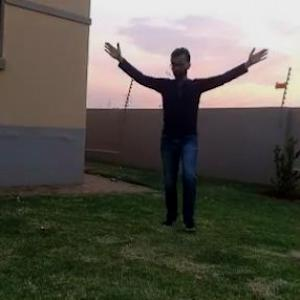takeoff: (107, 10, 292, 247)
